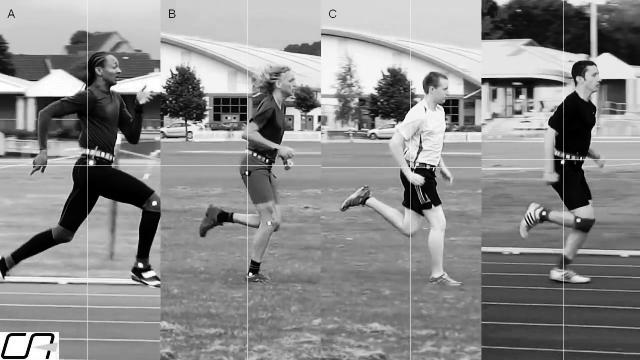berlari: (0, 49, 162, 290), (339, 66, 467, 298), (190, 56, 308, 292), (508, 53, 614, 289)
